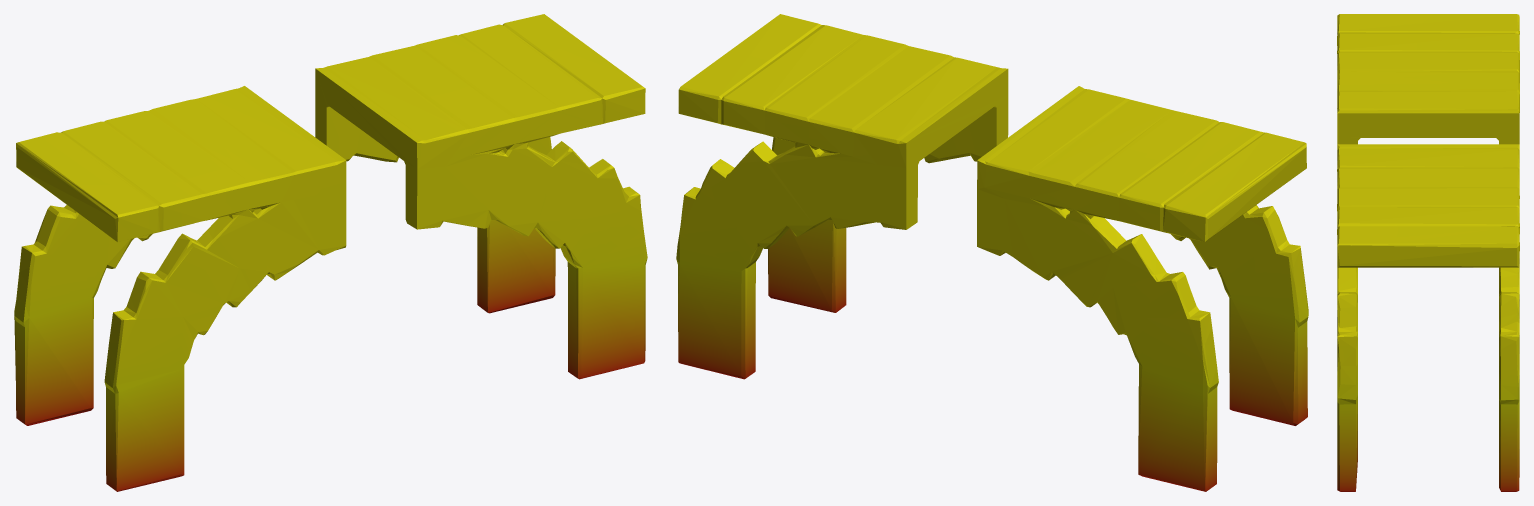
Rendered from bridge_span_gap.glb.
3 views of the same model, side by side, from view 1: azimuth 30°, elevation 25°; view 2: azimuth 150°, elevation 25°; view 3: azimuth 270°, elevation 25° (orthographic). The views are drawn at different scales.
Visible parts, largest first — view 1: bridge_span_gap; view 2: bridge_span_gap; view 3: bridge_span_gap.
Boxes of the visible parts, x1,y1,x2,y2 form: bridge_span_gap: [14, 14, 647, 491]; bridge_span_gap: [676, 14, 1308, 491]; bridge_span_gap: [1337, 14, 1519, 491].
Size of what is drawn, in the model's own units: 12.08 by 6 by 4.
